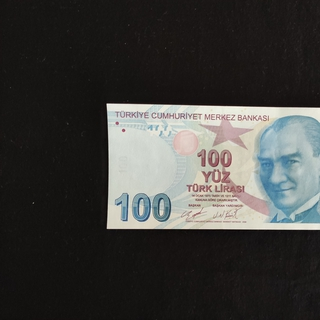100TLFront: (105, 102, 320, 232)
